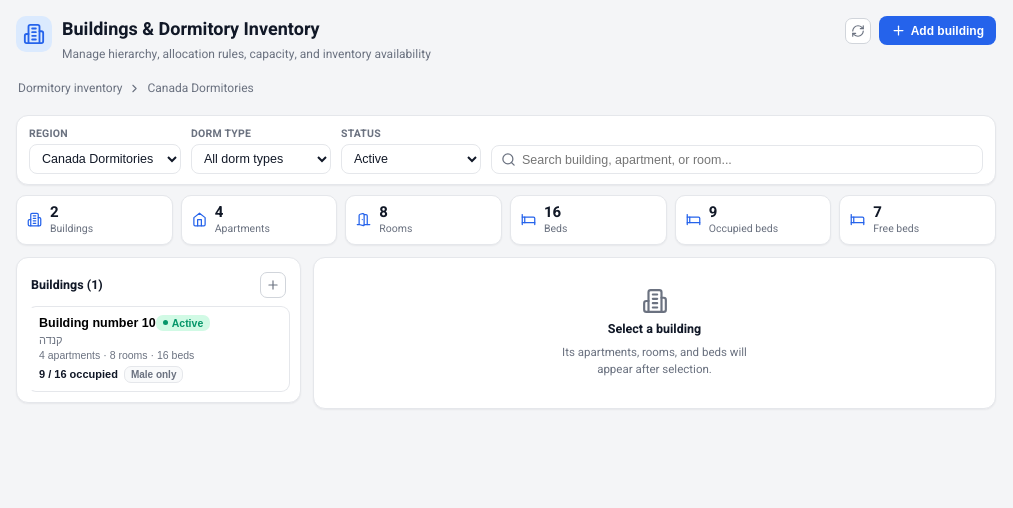
Test: BuildingsPage filters and summary › search narrows the navigator and can be cleared
The width and height of the screenshot is (1013, 508).
Expected: the button "Building number 10" is shown, x1=27 y1=306 x2=290 y2=392
Select "All" in the dropdown showing "Active" below "Status" at (411, 159), box x1=341 y1=144 x2=481 y2=174
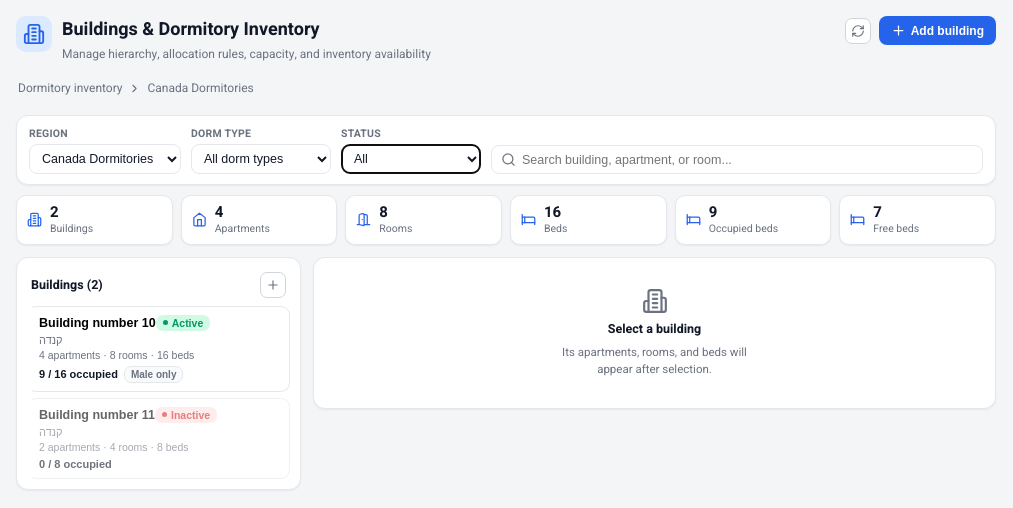
Type "11" into the field with placeholder "Search building, apartment, or room..." at (748, 160), box x1=522 y1=152 x2=973 y2=166
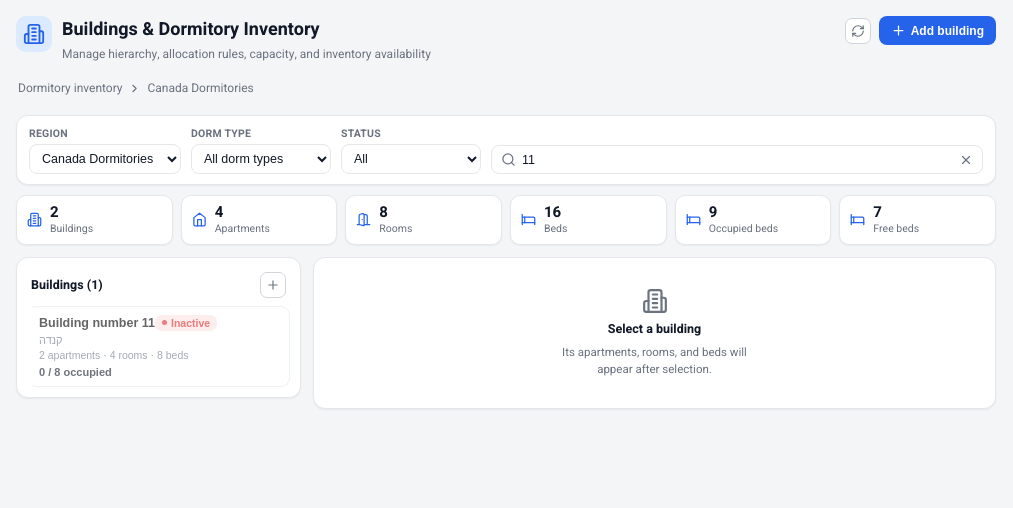
Expected: the button "Building number 11" is shown, x1=27 y1=306 x2=290 y2=386
Expected: the button "Building number 10" is gone
Click the button named "clear" at (966, 160), box x1=959 y1=152 x2=973 y2=166
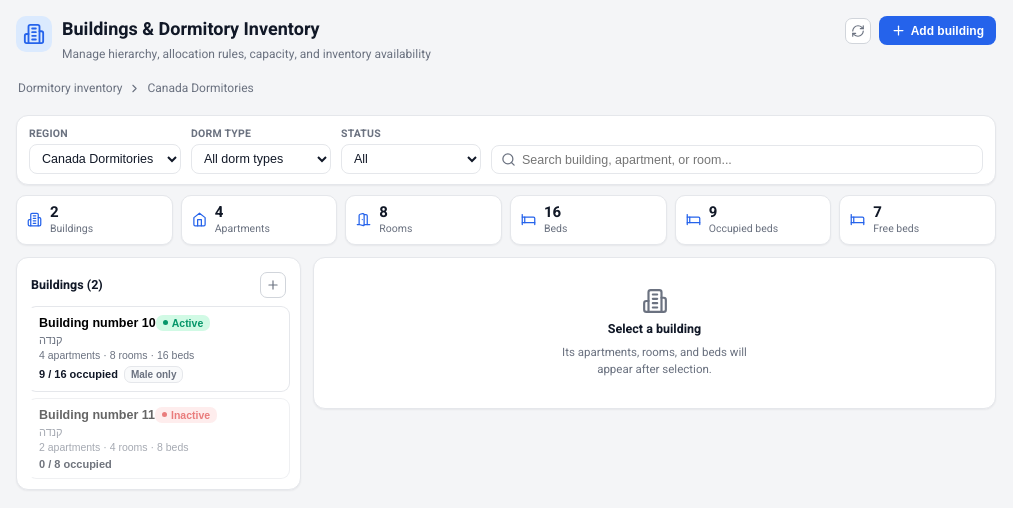
Expected: the button "Building number 10" is shown, x1=27 y1=306 x2=290 y2=392
